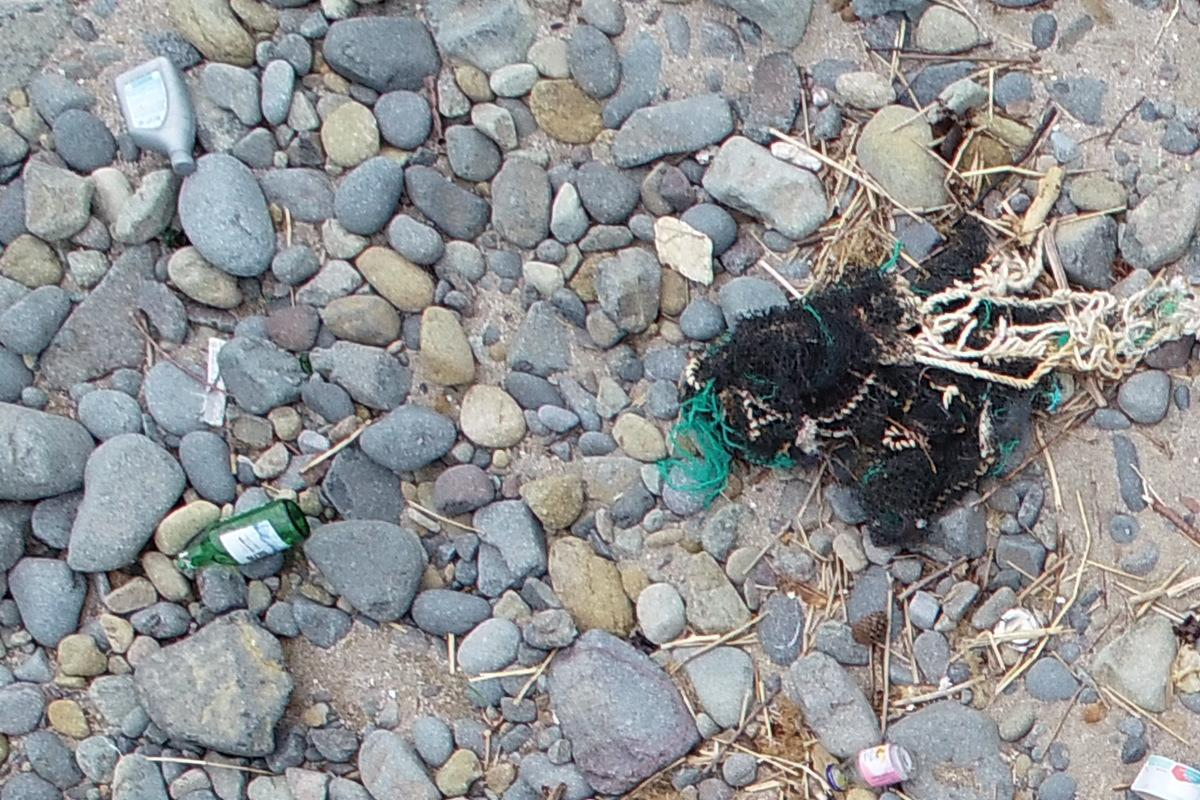(11)Glass: (176, 497, 310, 572), (826, 742, 917, 793)
(22)Net: (653, 198, 1200, 549)
(22)Plastic_ETC: (113, 56, 197, 177)
(22)Rope: (941, 3, 1200, 800)
